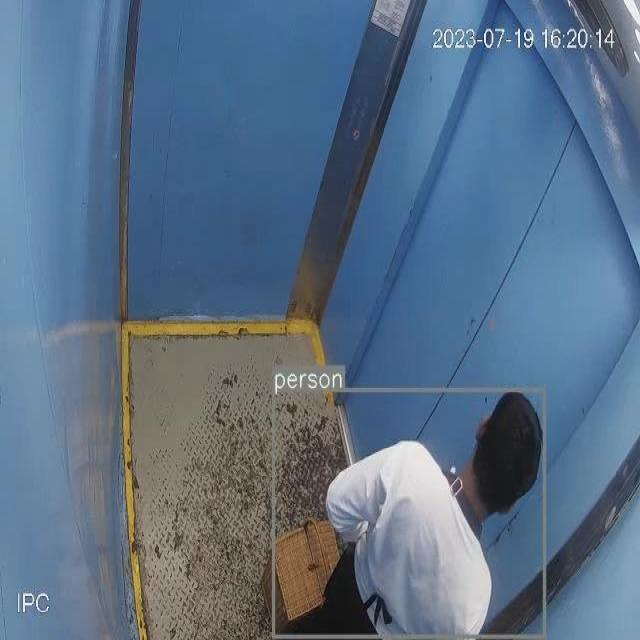person: (274, 392, 542, 633)
